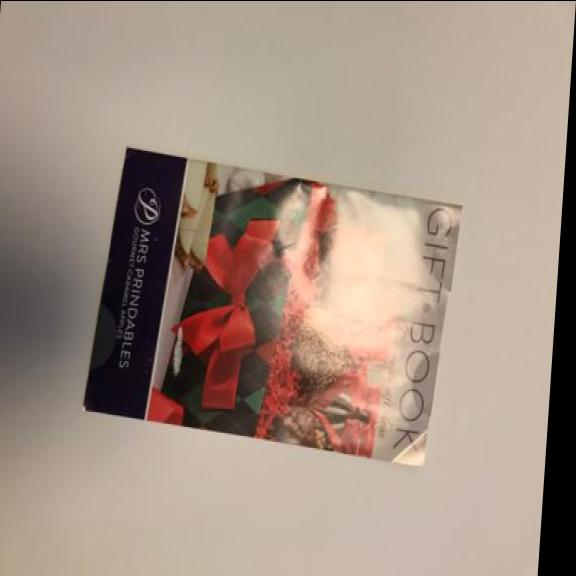Kertas: (66, 136, 478, 480)
